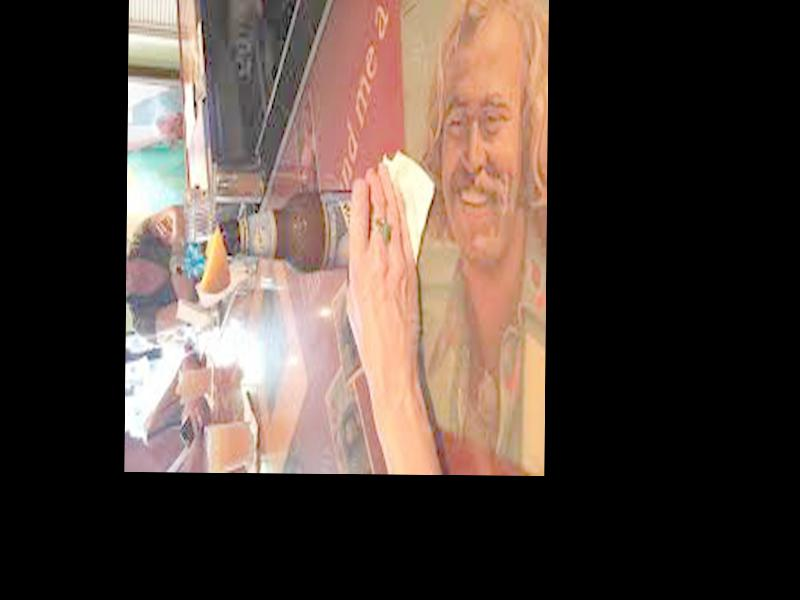Beer: (214, 185, 405, 268)
